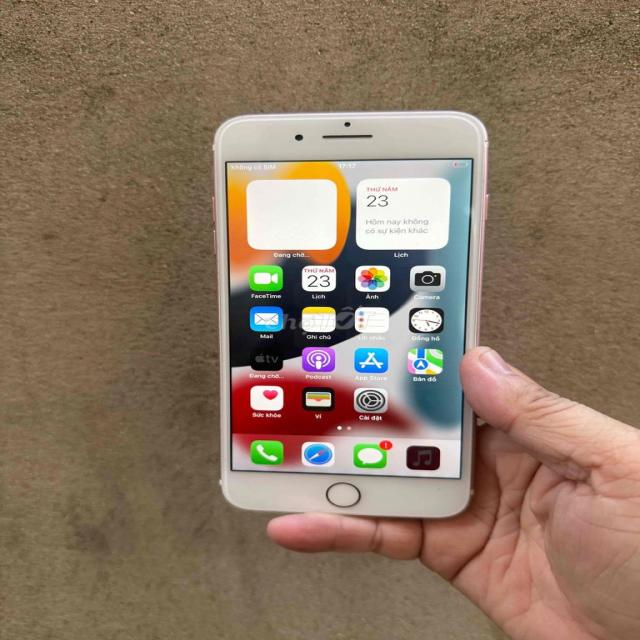gen_7_8: (193, 103, 498, 524)
